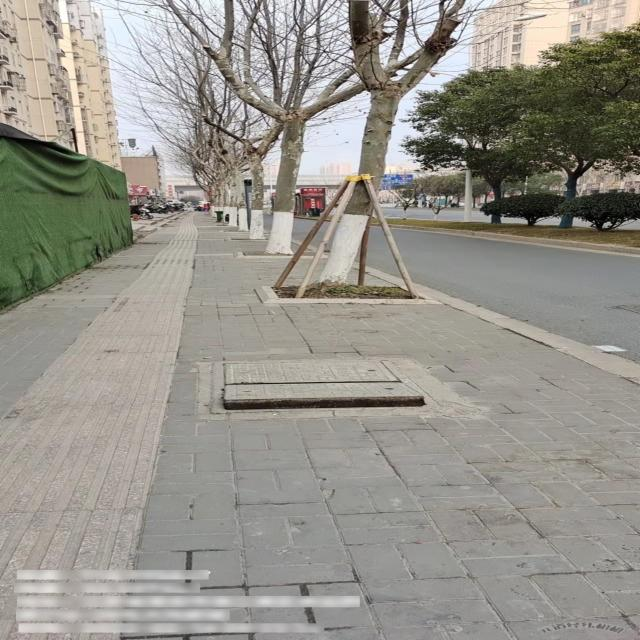Lose: (213, 356, 441, 414)
